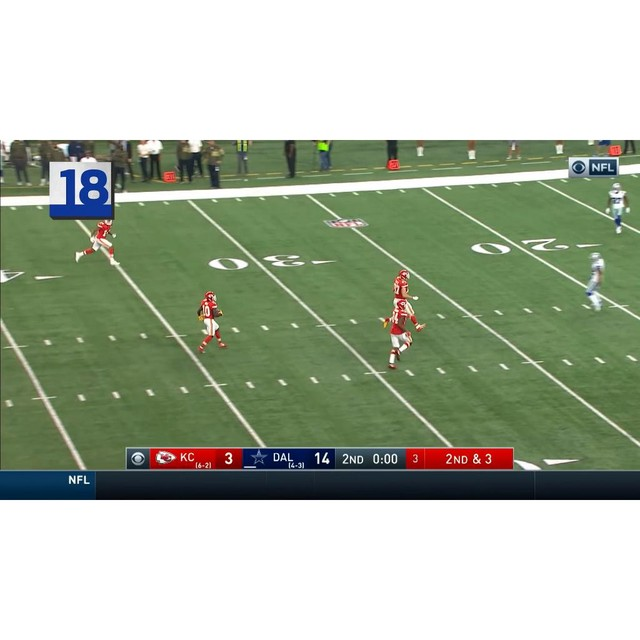american-football-player: (382, 298, 421, 370), (75, 219, 118, 266), (390, 271, 423, 330), (197, 292, 227, 353), (582, 252, 607, 314), (604, 182, 631, 235)
